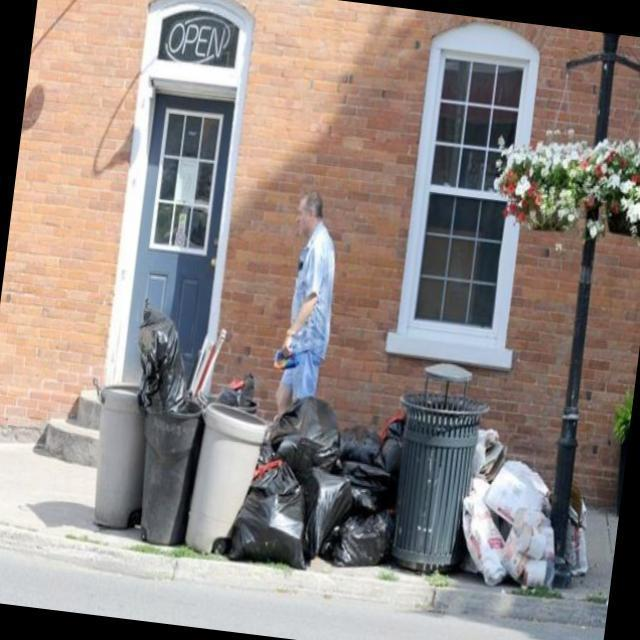garbage: (77, 381, 412, 578), (458, 424, 574, 587), (121, 286, 196, 418), (192, 332, 220, 407)
